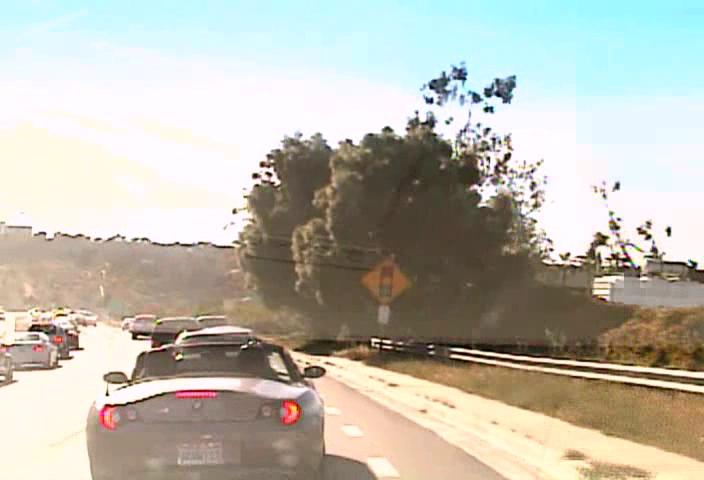signalAhead: (361, 255, 410, 304)
